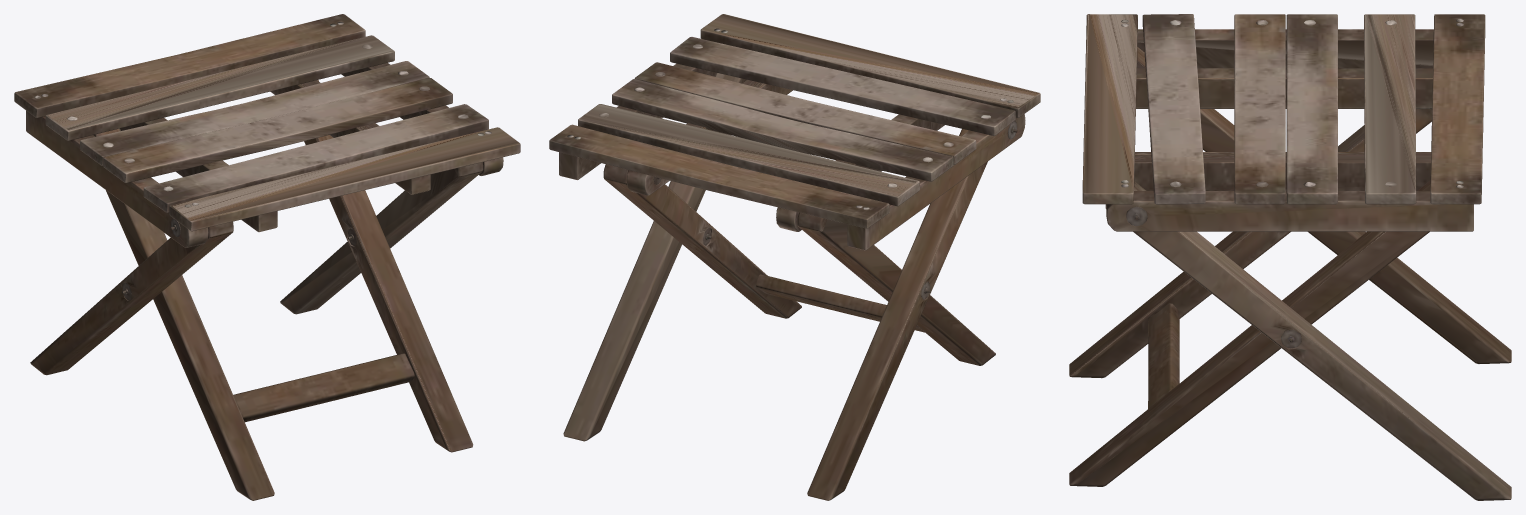
File: folding-wooden-stool.glb
3 views of the same model, side by side, from view 1: azimuth 30°, elevation 25°; view 2: azimuth 150°, elevation 25°; view 3: azimuth 270°, elevation 25° (orthographic). The views are drawn at different scales.
Visible parts, largest first — view 1: folding_wooden_stool; view 2: folding_wooden_stool; view 3: folding_wooden_stool.
Part boxes in pixels (x1=…): folding_wooden_stool: x1=14, y1=14, x2=520, y2=500; folding_wooden_stool: x1=549, y1=14, x2=1040, y2=500; folding_wooden_stool: x1=1069, y1=14, x2=1511, y2=500.
Size of the model in its own units: 0.5278 by 0.442 by 0.5471.
Materials: 1 (1 with a texture image).
